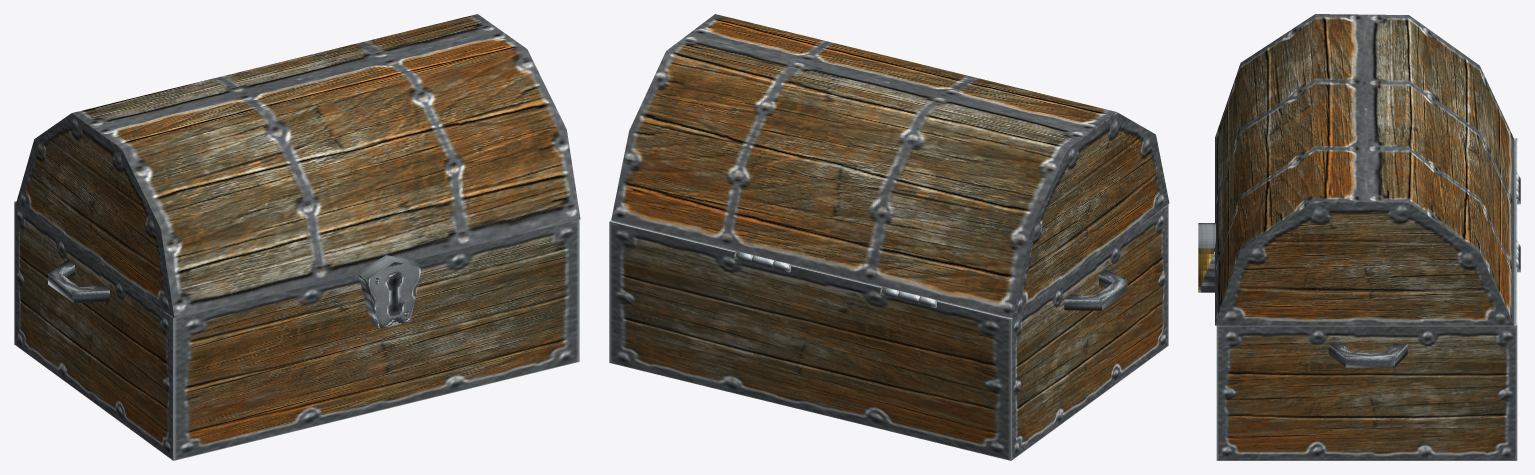
Rendered from Baoxiang_Kong.FBX.
3 views of the same model, side by side, from view 1: azimuth 30°, elevation 25°; view 2: azimuth 150°, elevation 25°; view 3: azimuth 270°, elevation 25° (orthographic). The views are drawn at different scales.
Parts seen in each view (by area): view 1: Object01, Treasure Chest02; view 2: Object01, Treasure Chest02; view 3: Object01, Treasure Chest02.
Boxes of the visible parts, bbox=[...] form: Object01: bbox=[15, 14, 580, 318]; Treasure Chest02: bbox=[14, 201, 579, 460]; Object01: bbox=[611, 14, 1169, 321]; Treasure Chest02: bbox=[609, 204, 1168, 460]; Object01: bbox=[1215, 14, 1513, 325]; Treasure Chest02: bbox=[1198, 138, 1520, 460].
Bounding box in the file's own units: 44.12 × 24.9 × 28.
Materials: 12 (12 with a texture image).
